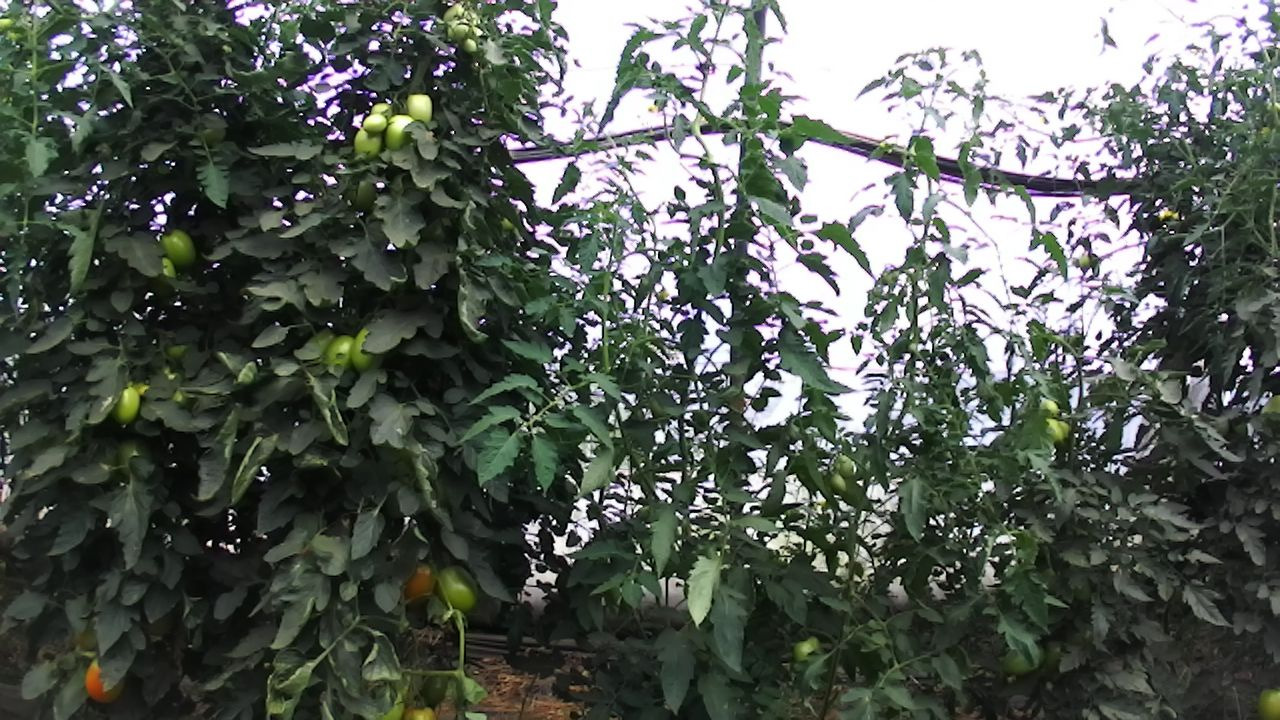tomato: (82, 655, 126, 706), (435, 564, 480, 613), (157, 226, 199, 273), (108, 384, 143, 429), (382, 113, 416, 152), (323, 333, 356, 371), (352, 125, 385, 161), (419, 674, 450, 708), (404, 90, 433, 126), (1255, 685, 1280, 720), (360, 111, 388, 136), (825, 471, 849, 495)
